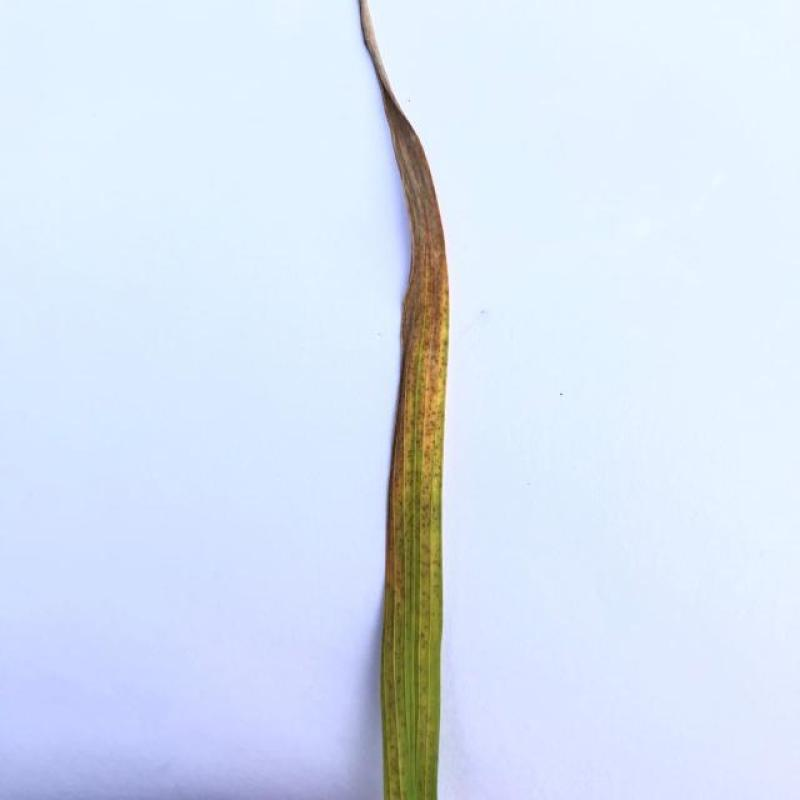Rice Tungro: (420, 139, 452, 491), (389, 133, 415, 488)
